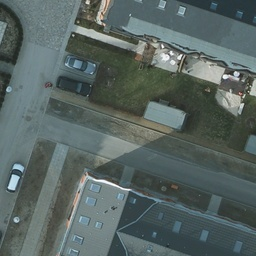car: (59, 76, 90, 100), (5, 162, 26, 193), (64, 56, 96, 75)
